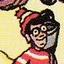waldo: (16, 8, 48, 48)
